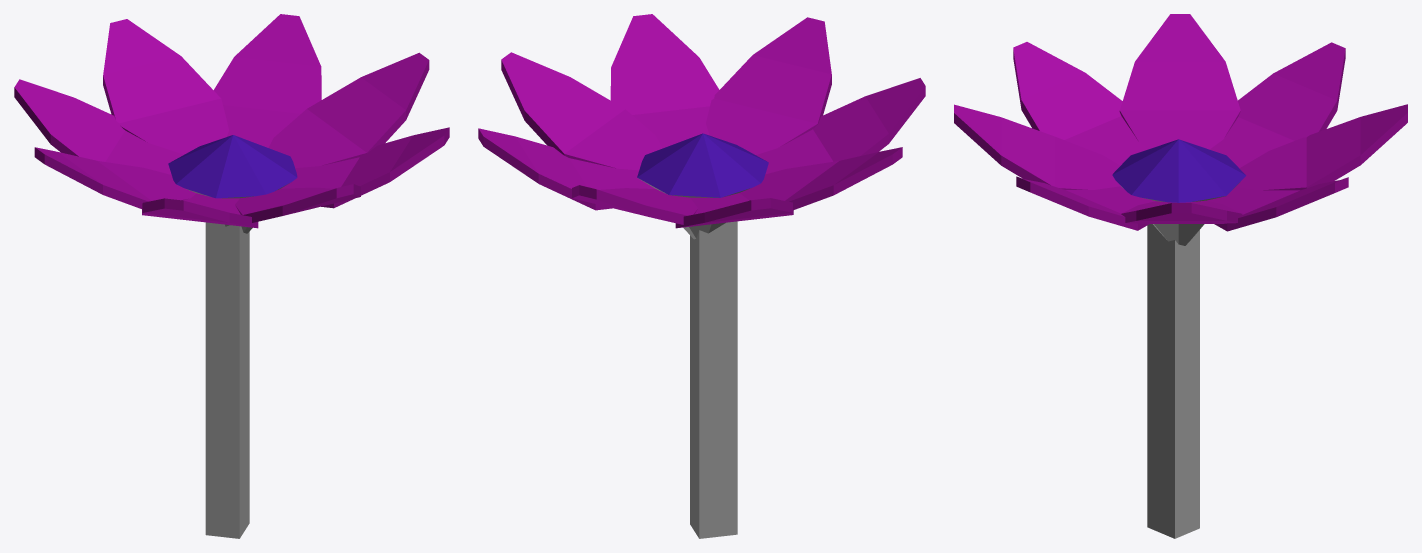
File: pinkpurpleflower.obj
3 renders of one model, left to right at view 1: azimuth 30°, elevation 25°; view 2: azimuth 150°, elevation 25°; view 3: azimuth 270°, elevation 25°, orthographic.
Visible parts, largest first — view 1: Cube.001_Cube.002; view 2: Cube.001_Cube.002; view 3: Cube.001_Cube.002.
Boxes of the visible parts, x1,y1,x2,y2 form: Cube.001_Cube.002: [14, 14, 449, 538]; Cube.001_Cube.002: [478, 14, 925, 538]; Cube.001_Cube.002: [954, 14, 1407, 538].
Size of the model in its own units: 0.0897 by 0.0937 by 0.0911.
